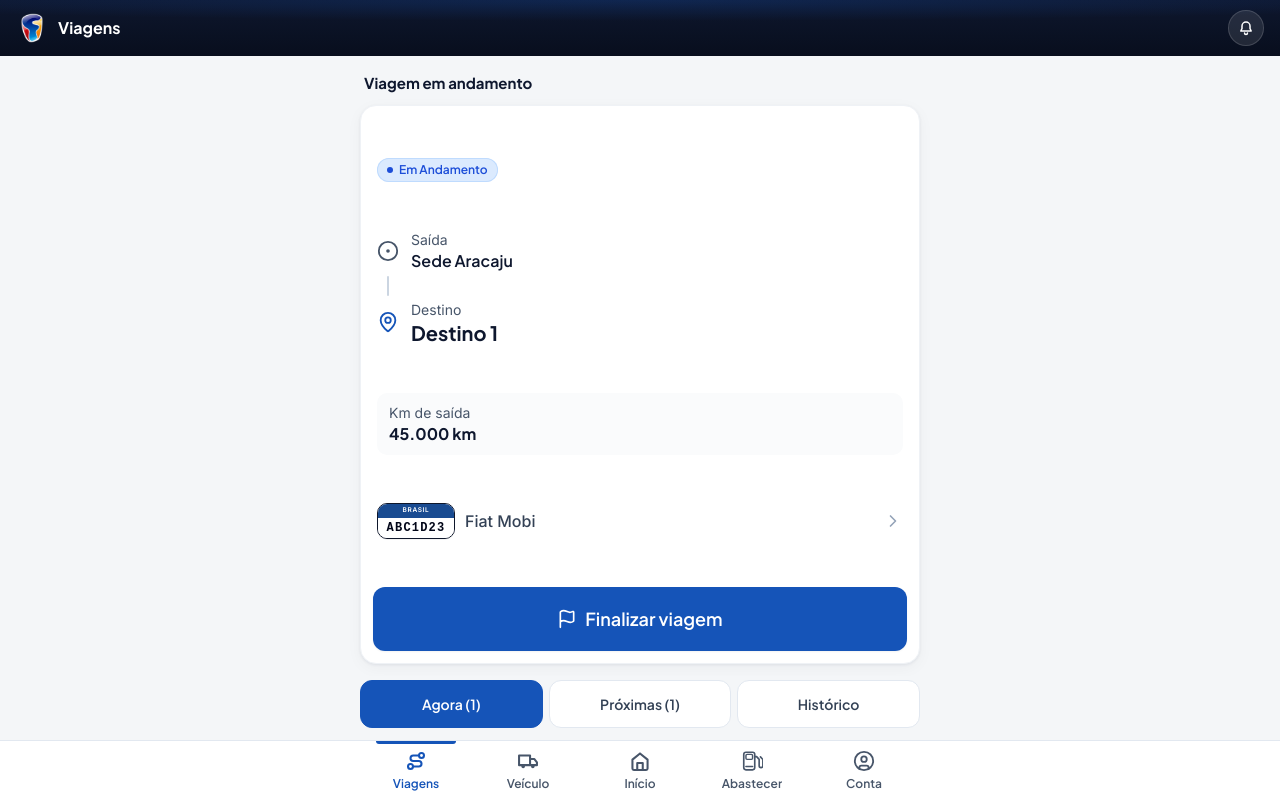
Test: Início e Viagens › com viagem em andamento, só oferece finalizar e não deixa iniciar outra
Expected: the button "Finalizar viagem" is shown, left=373, top=587, right=907, bottom=651
Click the button "Próximas (1)" at (640, 704), box left=549, top=680, right=731, bottom=728
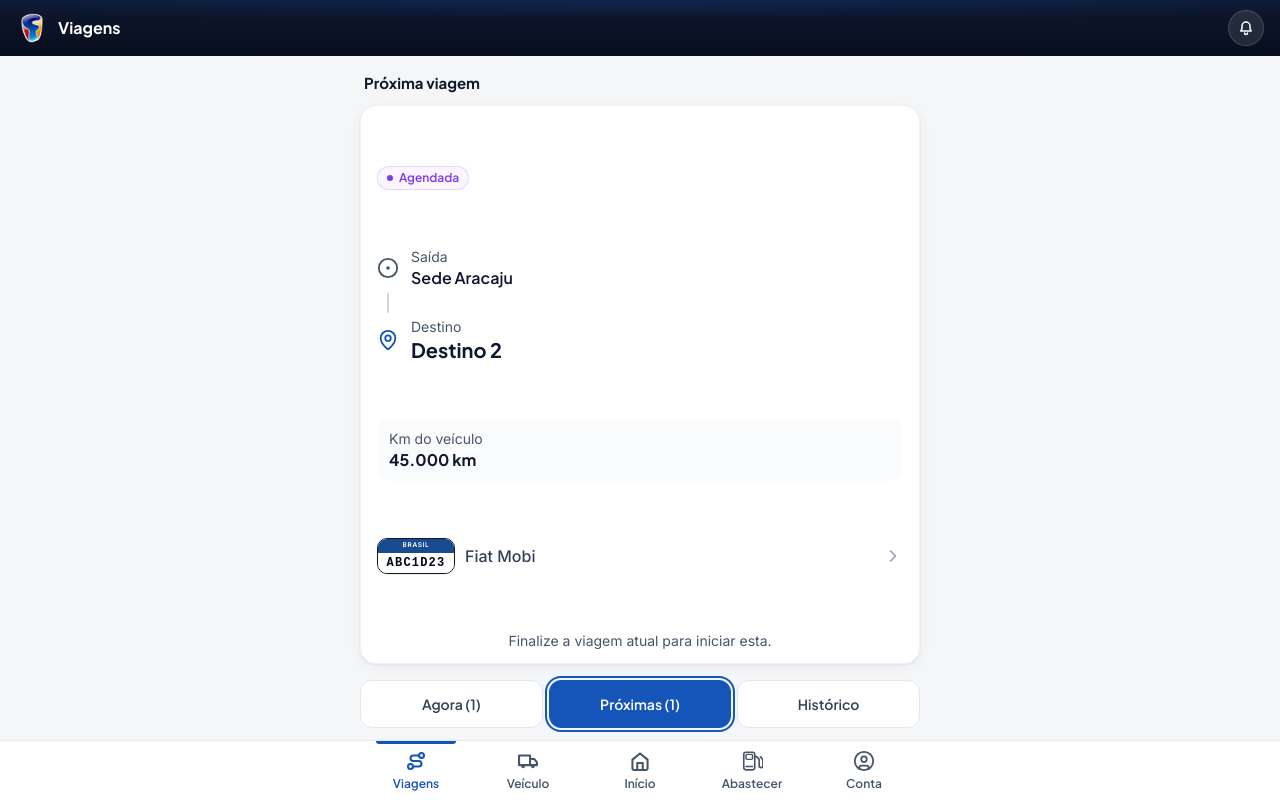
Now the text "Finalize a viagem atual para iniciar esta." is shown, box left=508, top=632, right=772, bottom=649
